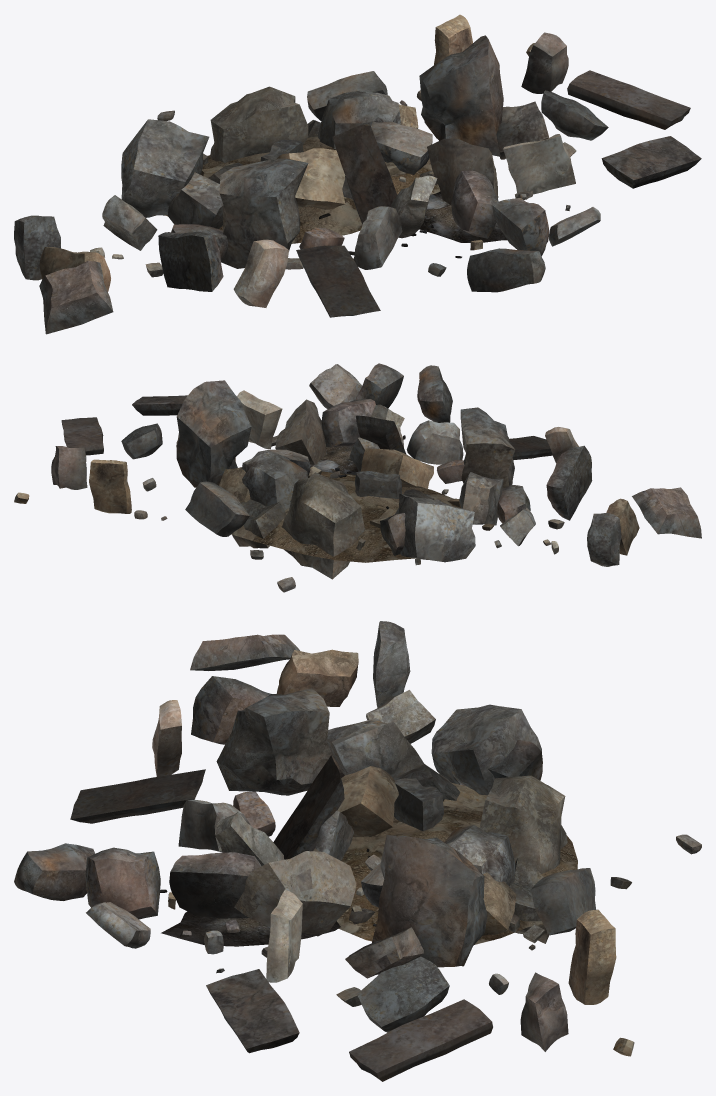
Rendered from altar_torn.glb.
The picture shows the model from 3 angles, top to bottom: view 1: azimuth 30°, elevation 25°; view 2: azimuth 150°, elevation 25°; view 3: azimuth 270°, elevation 25°; orthographic projection. The views are drawn at different scales.
Parts seen in each view (by area): view 1: altar_torn_stone, altar_torn_ash; view 2: altar_torn_stone, altar_torn_ash; view 3: altar_torn_stone, altar_torn_ash.
Boxes of the visible parts, x1,y1,x2,y2 form: altar_torn_stone: (14,14,701,334); altar_torn_ash: (165,136,506,258); altar_torn_stone: (14,363,701,592); altar_torn_ash: (231,435,460,562); altar_torn_stone: (14,621,701,1081); altar_torn_ash: (160,810,577,946).
Bounding box in the file's own units: 5.14 × 0.9549 × 3.57.
2 materials, 2 textured.
